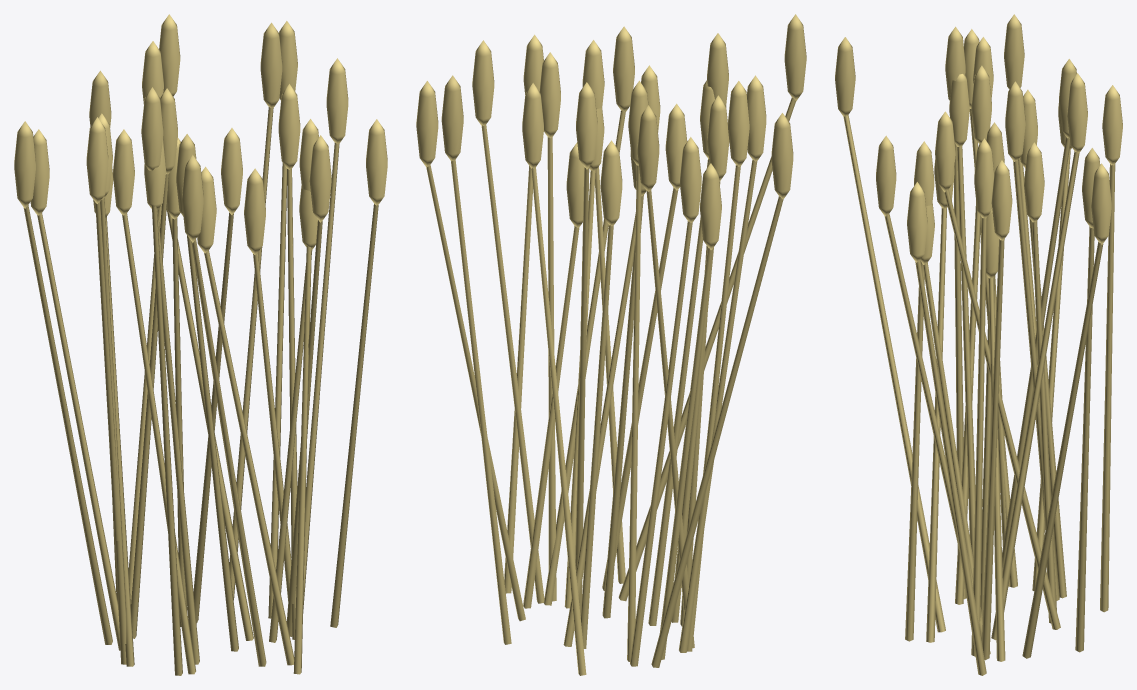
Rendered from crop_wheat.glb.
The picture shows the model from 3 angles, left to right: view 1: azimuth 30°, elevation 25°; view 2: azimuth 150°, elevation 25°; view 3: azimuth 270°, elevation 25°; orthographic projection. The views are drawn at different scales.
Parts seen in each view (by area): view 1: Wheat; view 2: Wheat; view 3: Wheat.
Boxes of the visible parts, x1=… form: Wheat: x1=14, y1=14, x2=387, y2=675; Wheat: x1=416, y1=14, x2=806, y2=675; Wheat: x1=835, y1=14, x2=1122, y2=675.
Bounding box in the file's own units: 0.6639 × 1.15 × 0.536.
